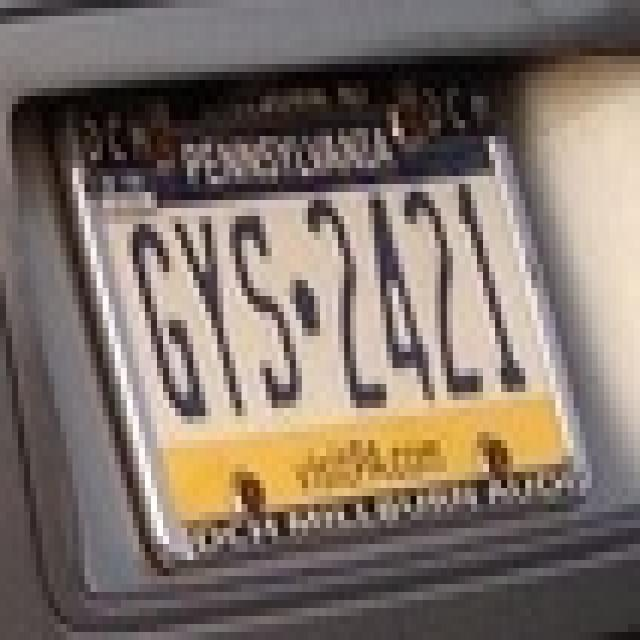licenseplate: (20, 42, 625, 599)
